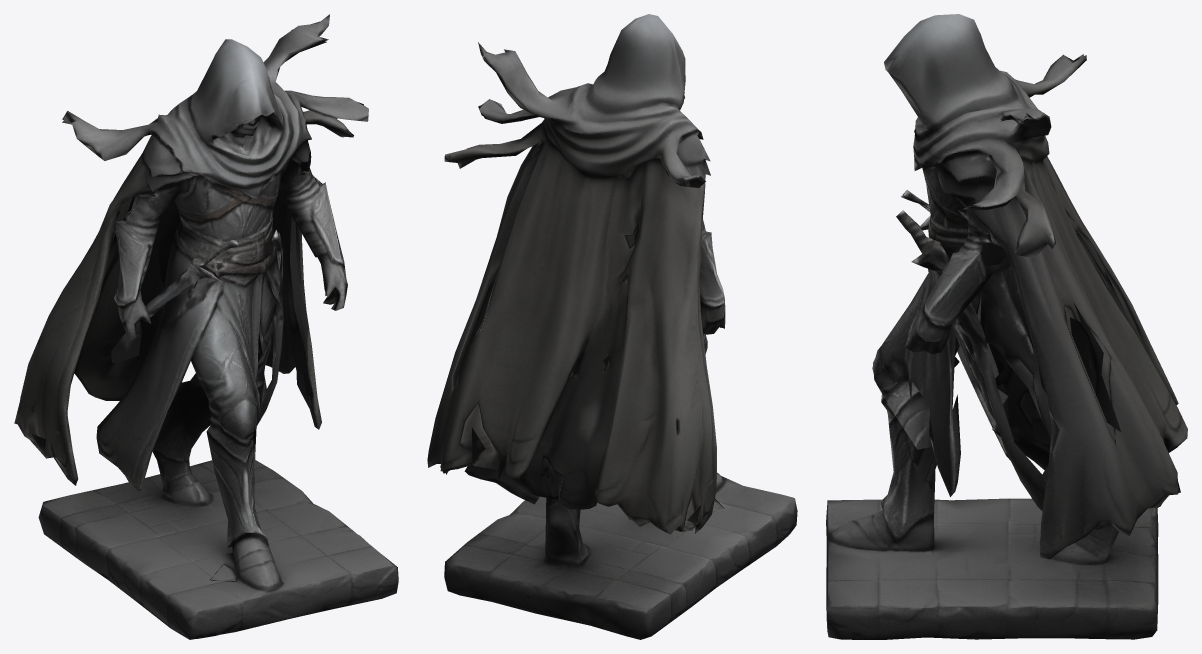
The model's file is char-duskrunner.glb.
The picture shows the model from 3 angles, left to right: view 1: azimuth 30°, elevation 25°; view 2: azimuth 150°, elevation 25°; view 3: azimuth 270°, elevation 25°; orthographic projection. The views are drawn at different scales.
Parts seen in each view (by area): view 1: geometry_0; view 2: geometry_0; view 3: geometry_0.
Boxes of the visible parts, x1=… form: geometry_0: x1=14, y1=14, x2=398, y2=639; geometry_0: x1=427, y1=14, x2=797, y2=639; geometry_0: x1=826, y1=14, x2=1187, y2=639.
Size of the model in its own units: 0.546 by 0.9972 by 0.5717.
Materials: 1 (1 with a texture image).
